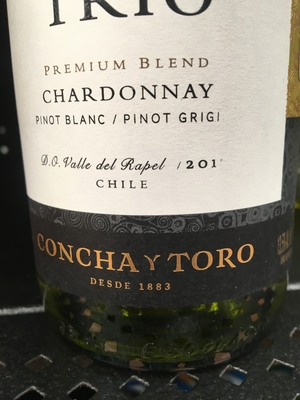trio chardonnay: (6, 2, 296, 367)
